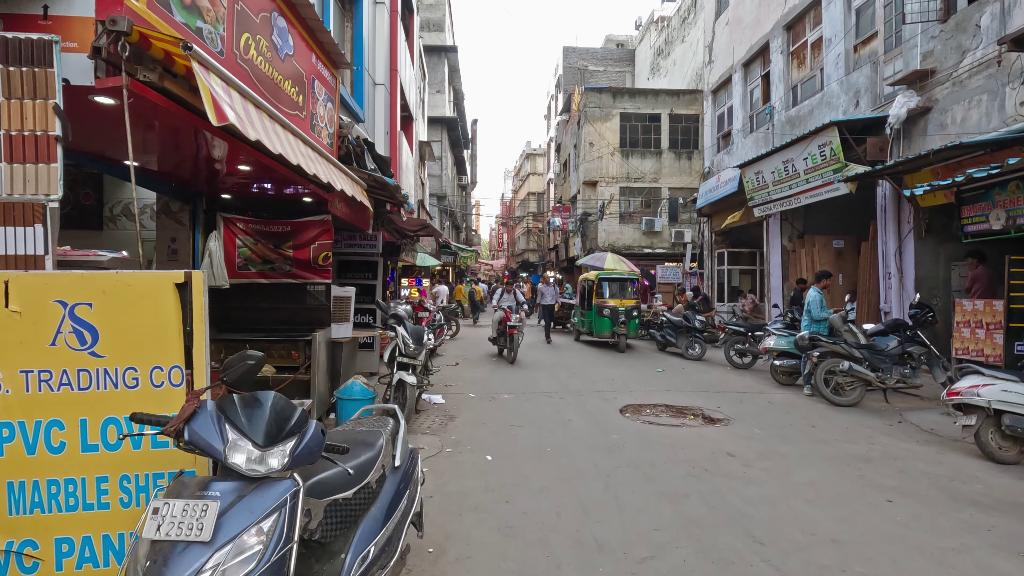dustbin: (327, 372, 377, 421), (420, 389, 447, 415)
